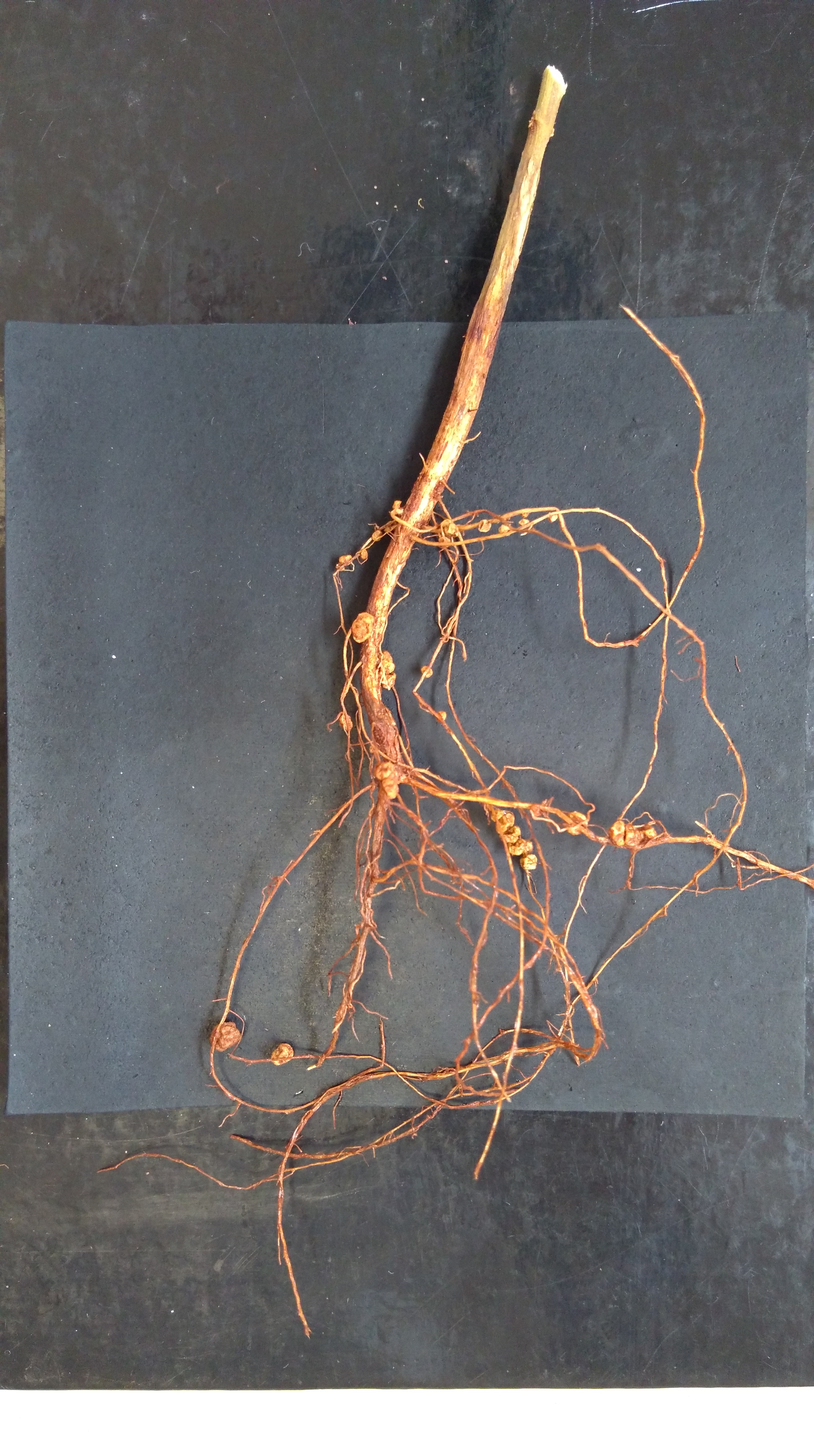nodule: (208, 1020, 243, 1053), (350, 610, 375, 644), (563, 808, 590, 837), (269, 1041, 295, 1068), (494, 809, 516, 836), (624, 822, 645, 849), (607, 818, 626, 847), (496, 824, 522, 844), (508, 837, 534, 857), (380, 776, 401, 800), (374, 760, 394, 781), (380, 650, 396, 674), (378, 671, 397, 691), (518, 853, 538, 871), (640, 822, 658, 839), (338, 713, 354, 731), (477, 518, 493, 534), (419, 664, 434, 680), (443, 523, 459, 538), (490, 807, 504, 822), (437, 536, 451, 549), (435, 710, 447, 724), (498, 522, 510, 535), (547, 511, 559, 524), (371, 529, 382, 542), (338, 553, 352, 563), (391, 499, 402, 510), (359, 548, 368, 561), (439, 518, 451, 527), (517, 518, 530, 526), (335, 562, 345, 570), (519, 511, 530, 518)
